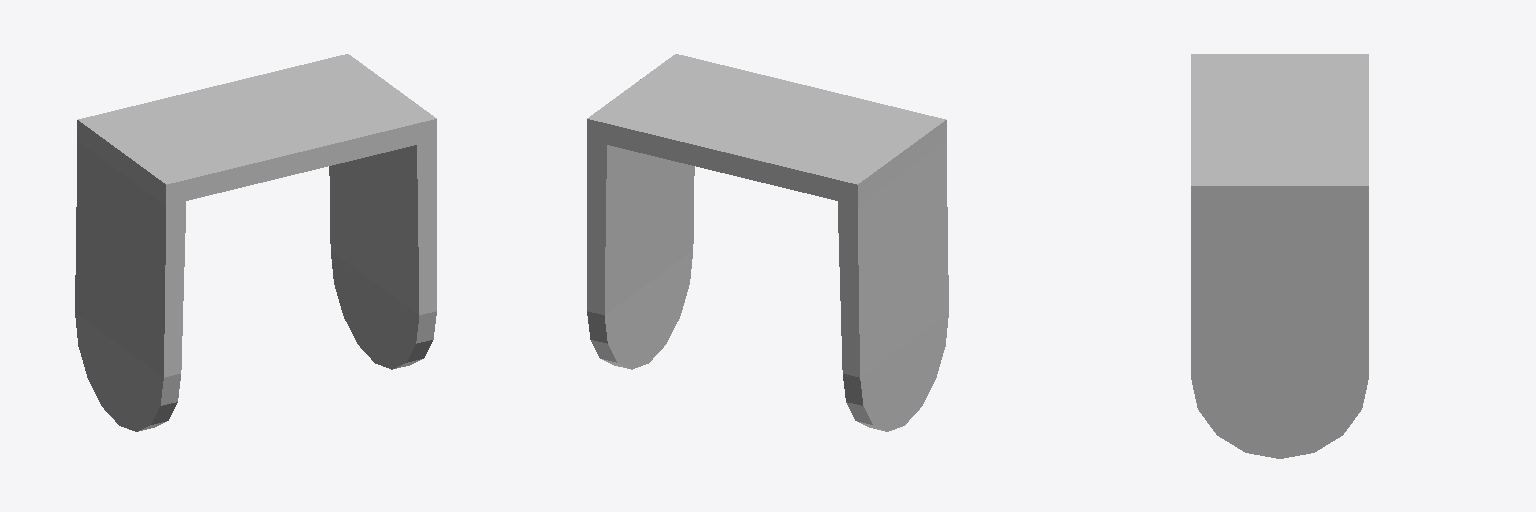
File: leftArm3.obj
3 renders of one model, left to right at view 1: azimuth 30°, elevation 25°; view 2: azimuth 150°, elevation 25°; view 3: azimuth 270°, elevation 25°, orthographic.
Parts seen in each view (by area): view 1: unnamed_object1; view 2: unnamed_object1; view 3: unnamed_object1.
Part boxes in pixels (bbox=[...]): unnamed_object1: bbox=[75, 54, 436, 431]; unnamed_object1: bbox=[587, 54, 948, 431]; unnamed_object1: bbox=[1191, 54, 1368, 458].
Size of the model in its own units: 5.45 by 5.2 by 3.07.